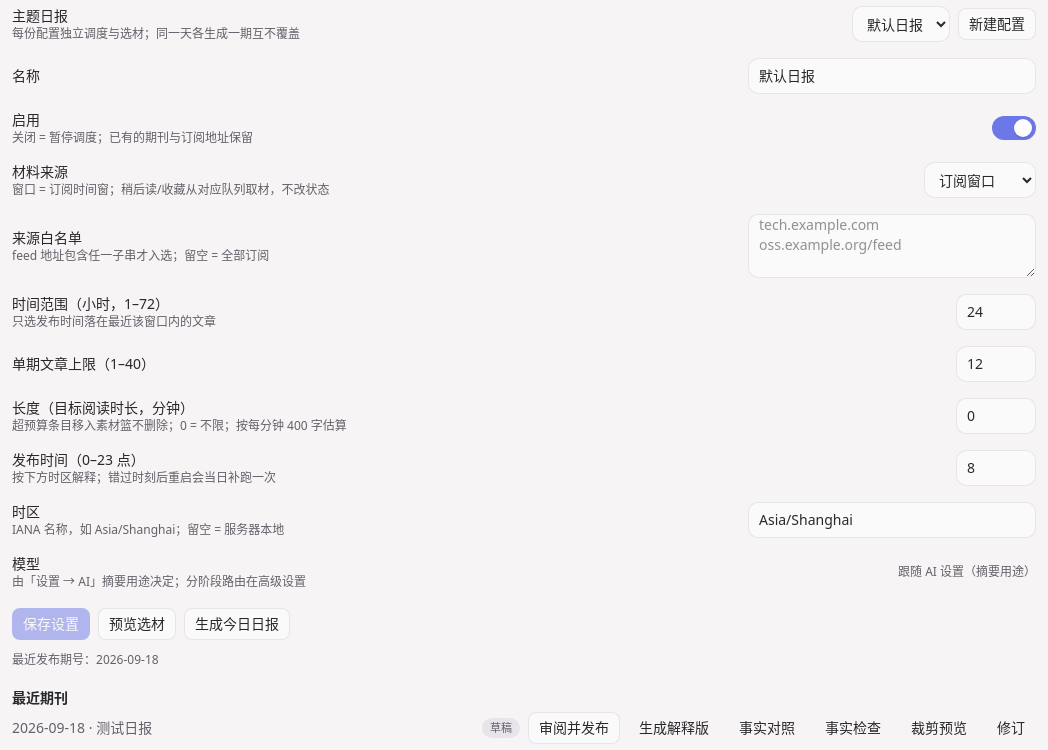
Test: 生成流程：阶段进度 + 取消 + 重试 › 生成期间轮询 run-status 显示服务端真实阶段；停止后在阶段边界生效且可重新生成
Expected: the dropdown named "选择日报配置" is shown, [852,6,950,42]
Click the button "生成今日日报". click: x=237, y=624
box: [184,608,290,640]
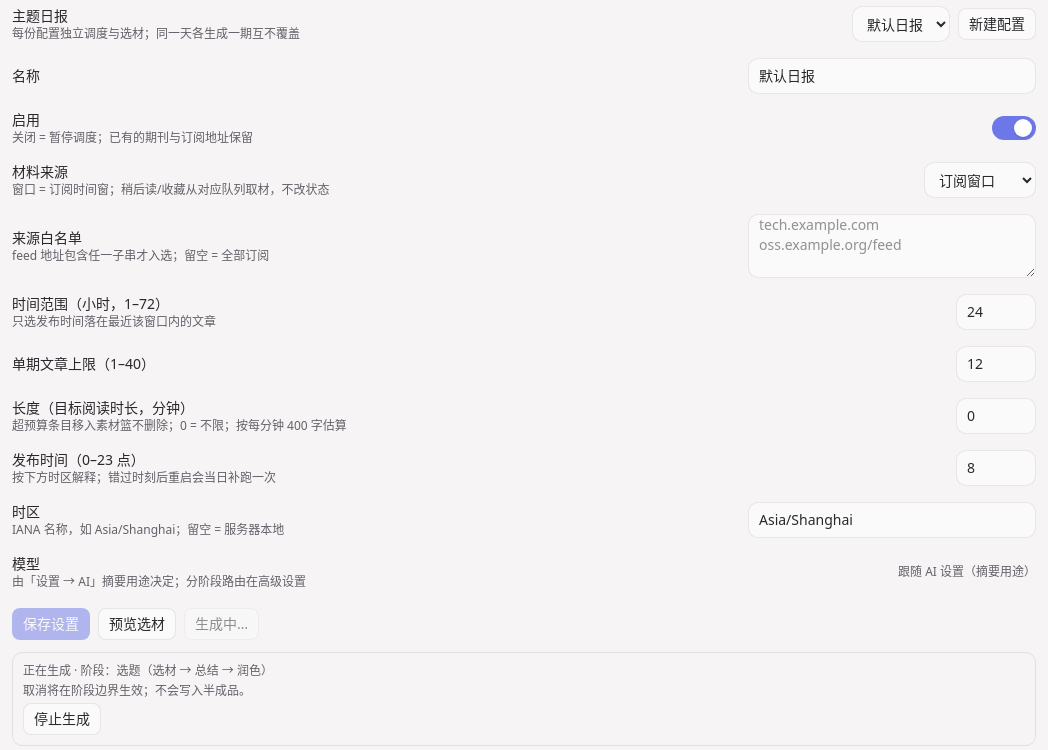
Expected: the text "正在生成 · 阶段：选题（选材 → 总结 → 润色）" is shown, [23,662,273,679]
Click the button "停止生成". click: x=62, y=719
box: [23,703,101,735]
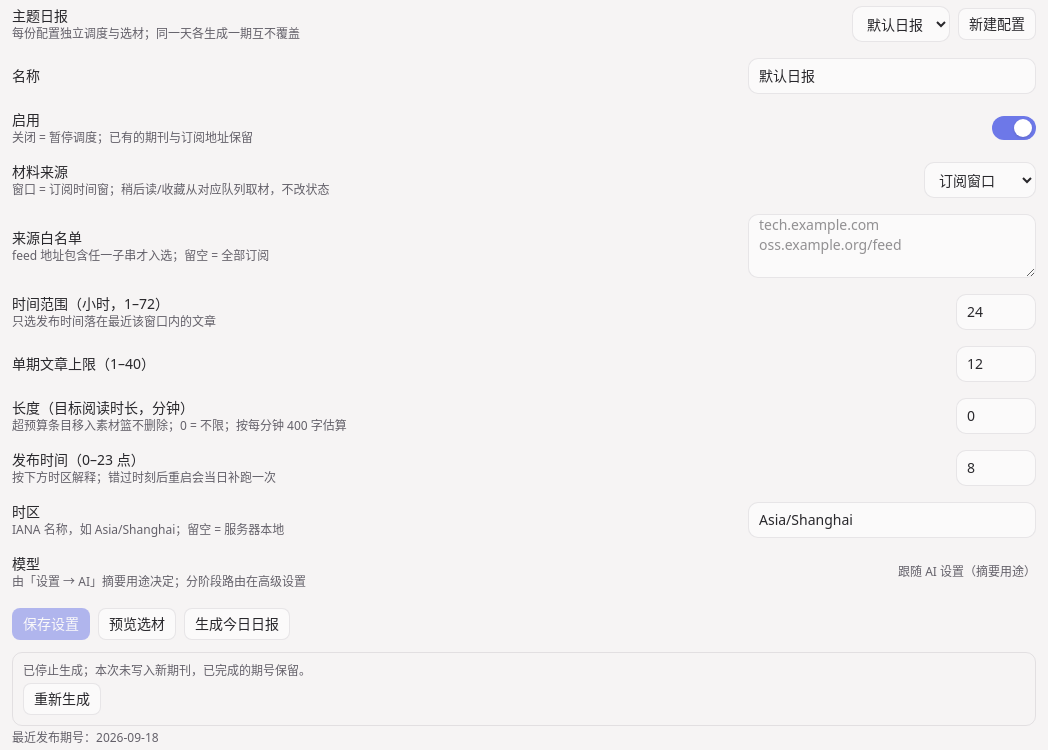
Expected: the text "已停止生成；本次未写入新期刊，已完成的期号保留。" is shown, [23,662,311,679]
Expected: the button "重新生成" is shown, [23,683,101,715]
